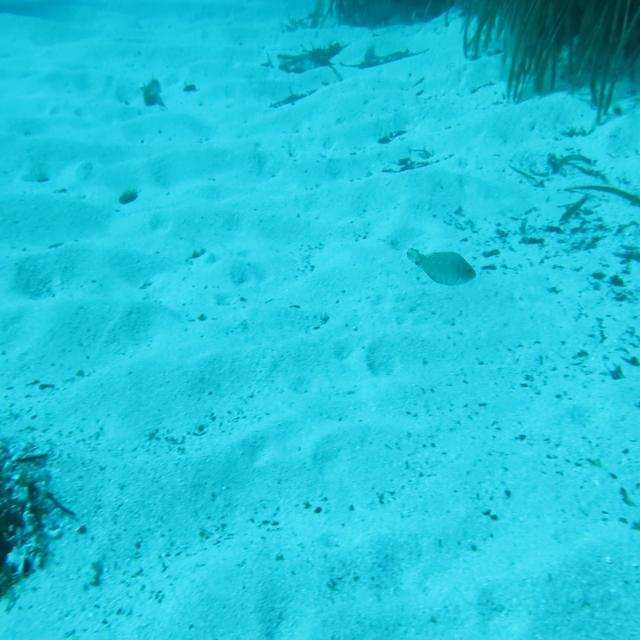SA: (399, 243, 480, 310)
nest: (0, 408, 51, 612)
